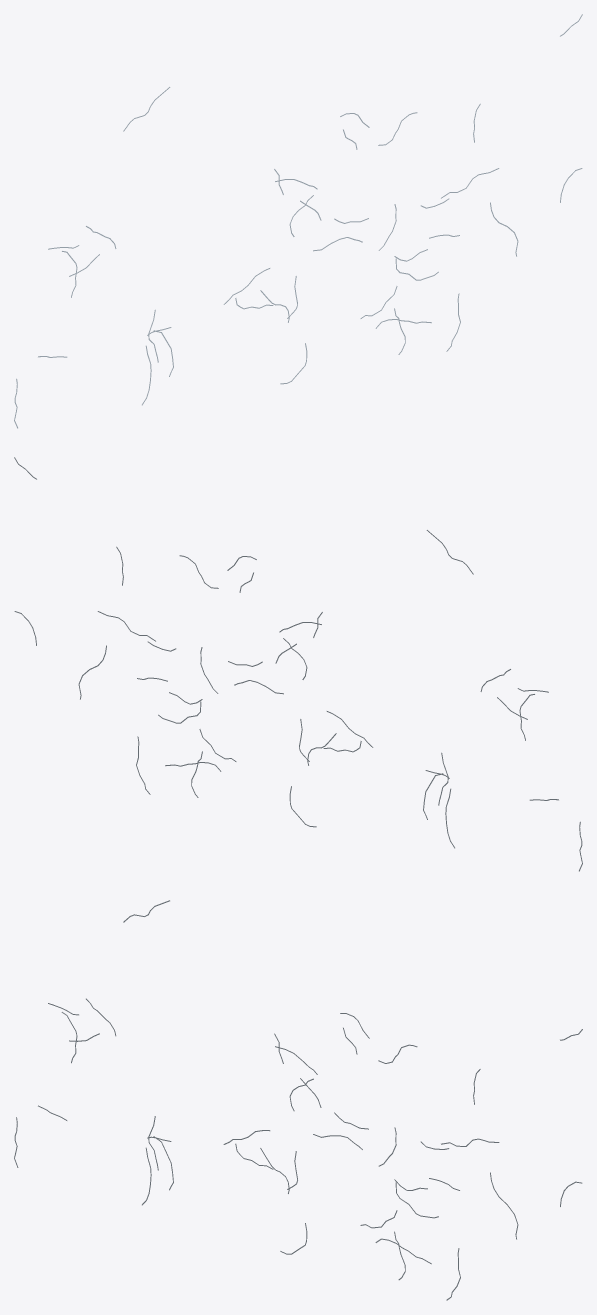
Rendered from 2051_PotionThrow_Overall_GroundPattern1.fbx.
3 renders of one model, top to bottom at view 1: azimuth 30°, elevation 25°; view 2: azimuth 150°, elevation 25°; view 3: azimuth 330°, elevation 25°, orthographic.
Parts seen in each view (by area): view 1: PART_Pyro_ContinuousPattern1; view 2: PART_Pyro_ContinuousPattern1; view 3: PART_Pyro_ContinuousPattern1.
Boxes of the visible parts, box(x1,y1,x2,y2) form: PART_Pyro_ContinuousPattern1: box(14, 14, 582, 428); PART_Pyro_ContinuousPattern1: box(14, 457, 582, 871); PART_Pyro_ContinuousPattern1: box(14, 900, 582, 1300).
Size of the model in its own units: 1902 by 1064 by 0.000173.
